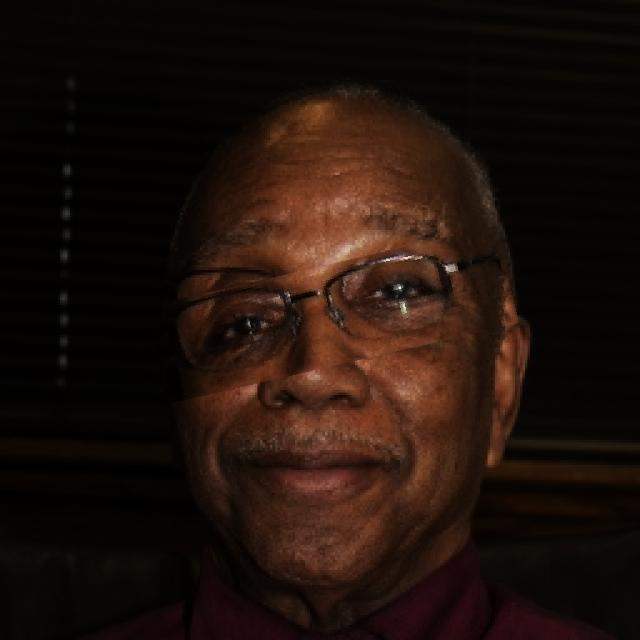glasses: (148, 246, 516, 384)
